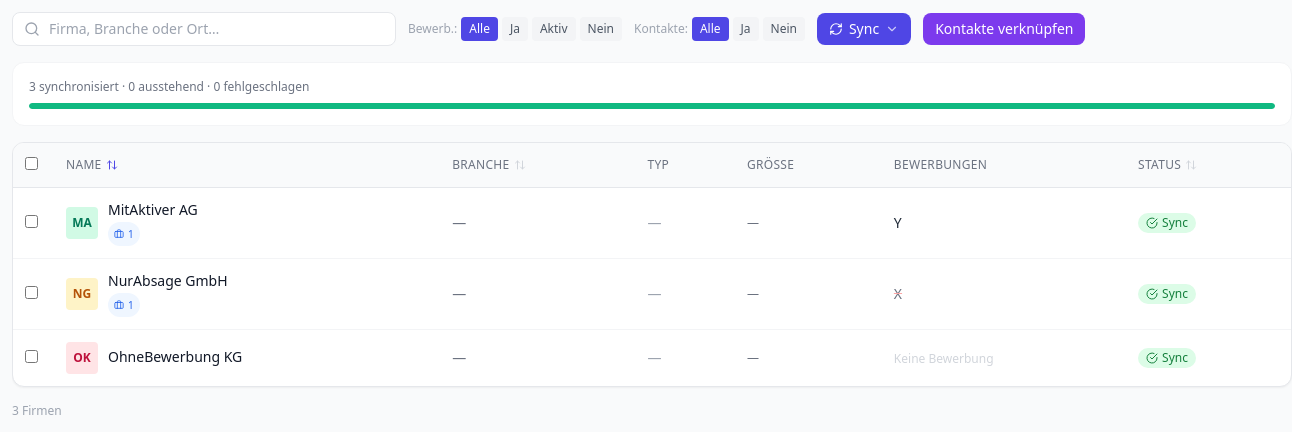
Test case: Applications-Filter "Aktiv" (Firmen) › positiv: "Aktiv" zeigt nur Firmen mit mindestens einer nicht abgesagten Bewerbung
The image size is (1292, 432).
Check: the text "NurAbsage GmbH" is shown, box [108, 271, 228, 291]
Click the button "Aktiv". click: [554, 29]
box: [532, 17, 576, 41]
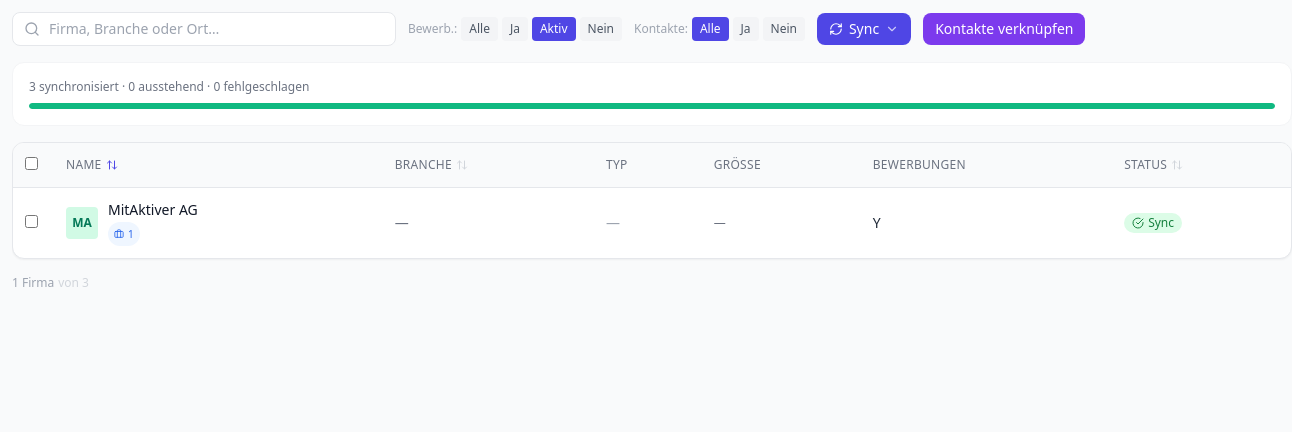
Check: the text "MitAktiver AG" is shown, box [108, 200, 198, 220]
Check: the text "NurAbsage GmbH" is gone
Check: the text "OhneBewerbung KG" is gone
